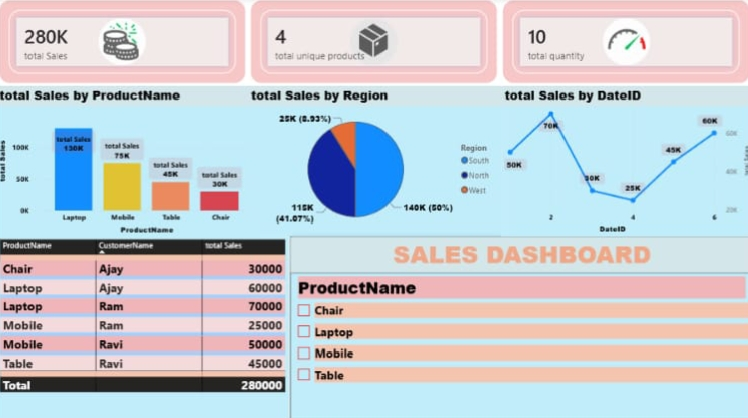

Layout of this report page (visuals, bound fields, positions):
{"tool":"powerbi","page":{"name":"Page 1","canvas":[1280,720],"ordinal":0},"visuals":[{"type":"cardVisual","fields":{"Data":["Fact table.total Sales"]},"box":[0,0,425.1,150.4],"z":0},{"type":"cardVisual","fields":{"Data":["Products.total unique products"]},"box":[425.1,0,427.5,150.4],"z":1000},{"type":"cardVisual","fields":{"Data":["Fact table.total quantity"]},"box":[852.5,0,427.5,150.4],"z":2000},{"type":"clusteredColumnChart","fields":{"Category":["Products.ProductName"],"Y":["Fact table.total Sales"]},"box":[0,150.4,450,254],"z":3000},{"type":"pieChart","fields":{"Category":["Regions.Region"],"Y":["Fact table.total Sales"]},"box":[425.1,150.4,429.9,253.1],"z":4000},{"type":"slicer","title":"SALES DASHBOARD","fields":{"Values":["Products.ProductName"]},"box":[496.7,403.6,784,317],"z":5000},{"type":"lineChart","fields":{"Category":["Fact table.DateID"],"Y2":["Fact table.total Sales"]},"box":[854.9,150.4,425.1,253.1],"z":6000},{"type":"tableEx","fields":{"Values":["Products.ProductName","customers.CustomerName","Fact table.total Sales"]},"box":[0,403.6,495,317.6],"z":7000}]}

Visuals, with their boxes in screenshot pixels (x1, y1, x2, y2), scaled from the page's 1280x720 canvas onto the 748x418 screenshot:
cardVisual - Fact table.total Sales: 0,0,248,87
cardVisual - Products.total unique products: 248,0,498,87
cardVisual - Fact table.total quantity: 498,0,747,87
clusteredColumnChart - Products.ProductName x Fact table.total Sales: 0,87,263,235
pieChart - Regions.Region x Fact table.total Sales: 248,87,500,234
"SALES DASHBOARD" slicer: 290,234,747,417
lineChart - Fact table.DateID x Fact table.total Sales: 500,87,747,234
tableEx - Products.ProductName x customers.CustomerName: 0,234,289,417
